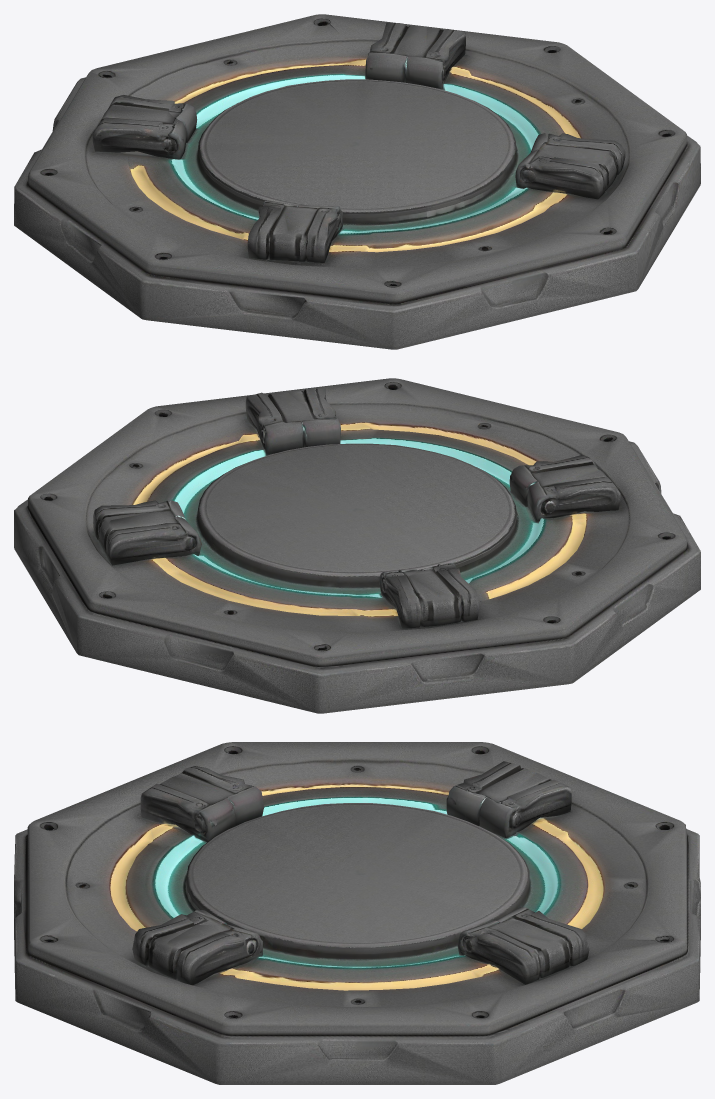
The model's file is tripo_convert_ddfb81f4-142b-4fbc-ba13-8b84dfc951f9.fbx.
3 renders of one model, top to bottom at view 1: azimuth 30°, elevation 25°; view 2: azimuth 150°, elevation 25°; view 3: azimuth 270°, elevation 25°, orthographic. The views are drawn at different scales.
Visible parts, largest first — view 1: tripo_node_ddfb81f4; view 2: tripo_node_ddfb81f4; view 3: tripo_node_ddfb81f4.
Part boxes in pixels (<box>): tripo_node_ddfb81f4: <box>14,14,700,349</box>; tripo_node_ddfb81f4: <box>14,378,700,713</box>; tripo_node_ddfb81f4: <box>14,742,700,1084</box>.
Size of the model in its own units: 0.998 by 0.127 by 0.9863.
Materials: 1 (1 with a texture image).
